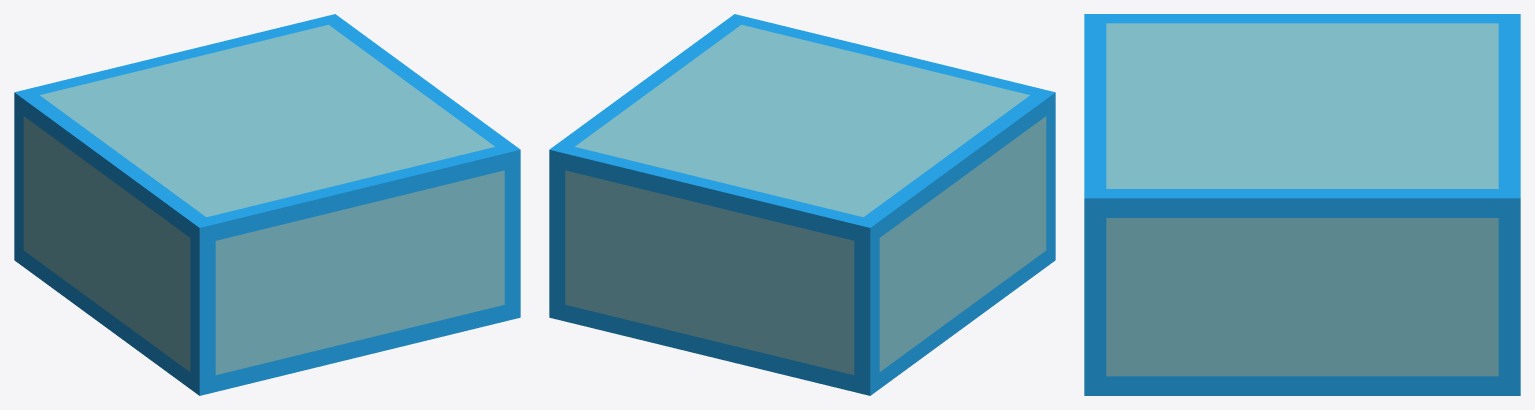
Rendered from Box_HalfHeight_Small.obj.
3 renders of one model, left to right at view 1: azimuth 30°, elevation 25°; view 2: azimuth 150°, elevation 25°; view 3: azimuth 270°, elevation 25°, orthographic. The views are drawn at different scales.
Bounding box in the file's own units: 20 × 10 × 20.
1 material, 1 textured.
